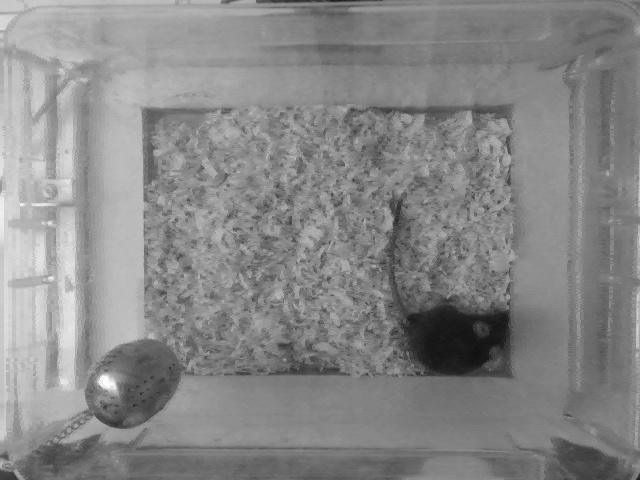mice: (382, 195, 512, 372)
